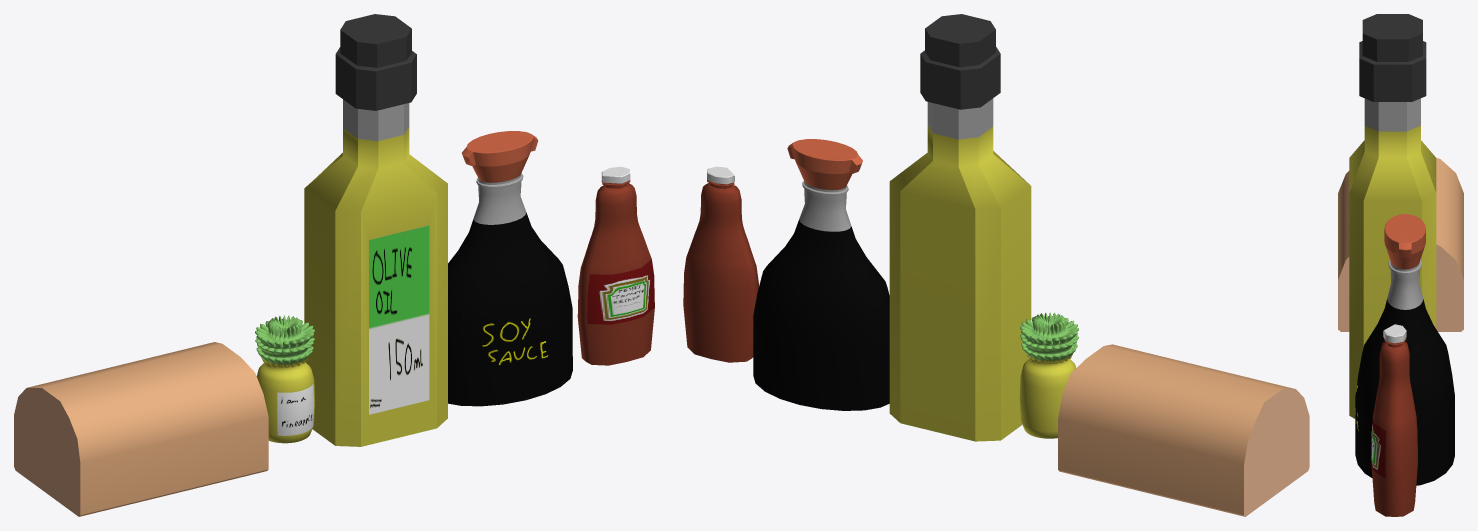
Rendered from shop props.fbx.
3 views of the same model, side by side, from view 1: azimuth 30°, elevation 25°; view 2: azimuth 150°, elevation 25°; view 3: azimuth 270°, elevation 25° (orthographic). The views are drawn at different scales.
Parts seen in each view (by area): view 1: olive_oil, bread_loaf, soy_sauce, ketchup, pineapple; view 2: olive_oil, bread_loaf, soy_sauce, ketchup, pineapple; view 3: olive_oil, soy_sauce, ketchup, bread_loaf.
Boxes of the visible parts, left/top/right/bottom form: olive_oil: left=304, top=14, right=447, bottom=446; bread_loaf: left=14, top=342, right=268, bottom=516; soy_sauce: left=448, top=131, right=572, bottom=406; ketchup: left=577, top=166, right=654, bottom=365; pineapple: left=255, top=315, right=315, bottom=443; olive_oil: left=889, top=14, right=1031, bottom=441; bread_loaf: left=1058, top=344, right=1309, bottom=516; soy_sauce: left=753, top=139, right=889, bottom=410; ketchup: left=683, top=166, right=758, bottom=362; pineapple: left=1019, top=312, right=1078, bottom=438; olive_oil: left=1349, top=14, right=1436, bottom=418; soy_sauce: left=1355, top=214, right=1454, bottom=485; ketchup: left=1371, top=324, right=1417, bottom=516; bread_loaf: left=1338, top=158, right=1463, bottom=331.
Bounding box in the file's own units: 22.7 × 14.15 × 4.34.
